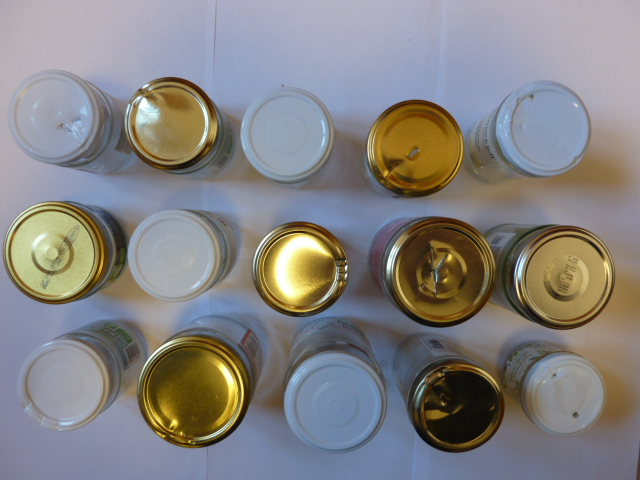damaged: (136, 337, 245, 448), (384, 218, 496, 325), (367, 100, 464, 194), (123, 77, 218, 169), (9, 69, 100, 163), (522, 353, 606, 437)
intact: (284, 351, 386, 454), (514, 227, 616, 327), (5, 202, 102, 302), (240, 86, 335, 184), (128, 210, 220, 300)
